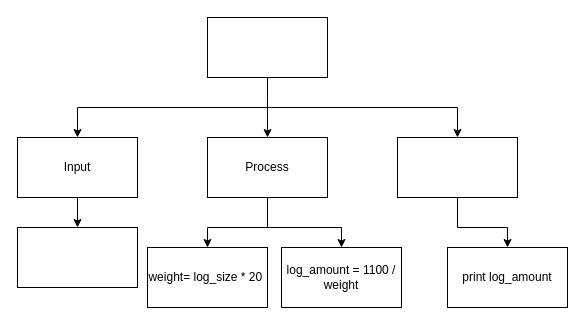
This 585x325 diagram has some shape labels left out. Here are the shapes that lost their labels. From the top down, the centre of each, then its label:
[267,47]: Logs
[457,167]: Output
[77,257]: log_size= "What is the size of the log (.25m, .5m, 1m"
